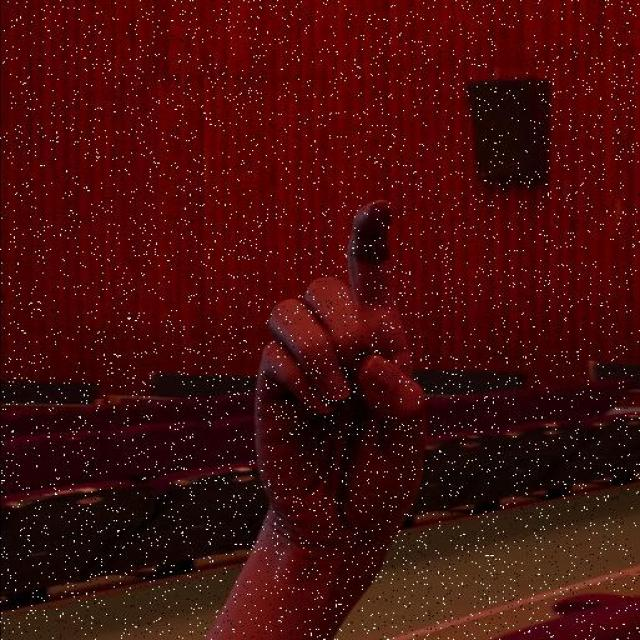X: (231, 193, 435, 582)
